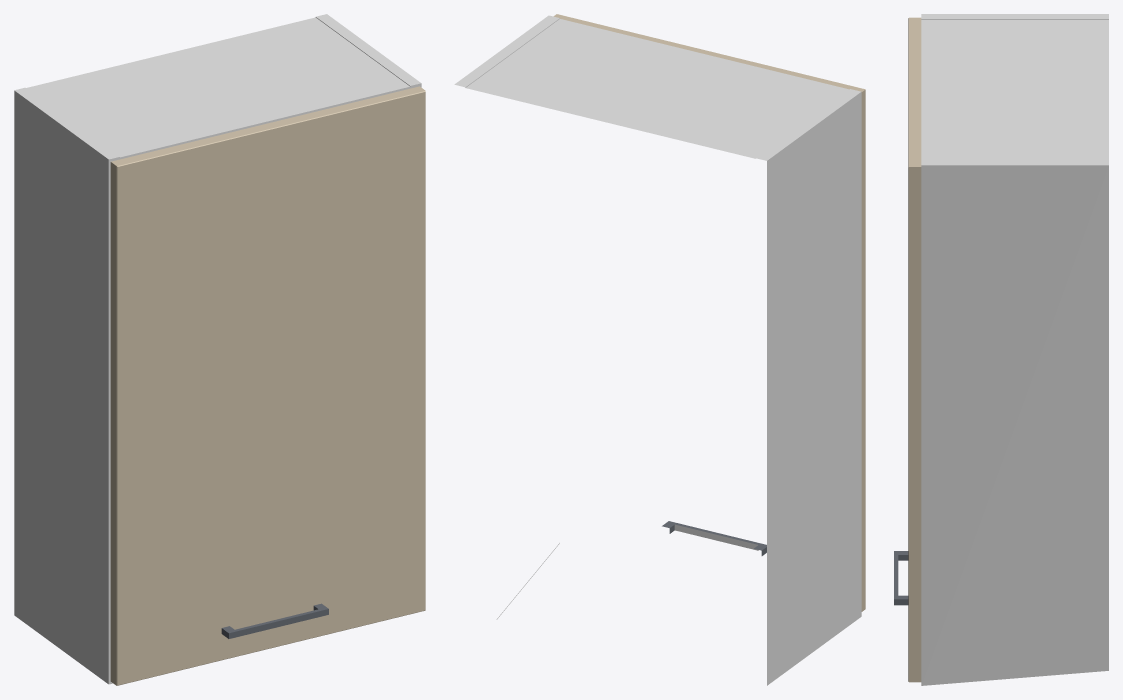
File: gornji_50cm.glb
3 renders of one model, left to right at view 1: azimuth 30°, elevation 25°; view 2: azimuth 150°, elevation 25°; view 3: azimuth 270°, elevation 25°, orthographic.
Visible parts, largest first — view 1: Model; view 2: Model; view 3: Model.
Boxes of the visible parts, bbox=[...] form: Model: bbox=[14, 14, 425, 685]; Model: bbox=[454, 14, 865, 685]; Model: bbox=[894, 14, 1108, 685].
Size of the model in its own units: 500 by 802 by 300.
